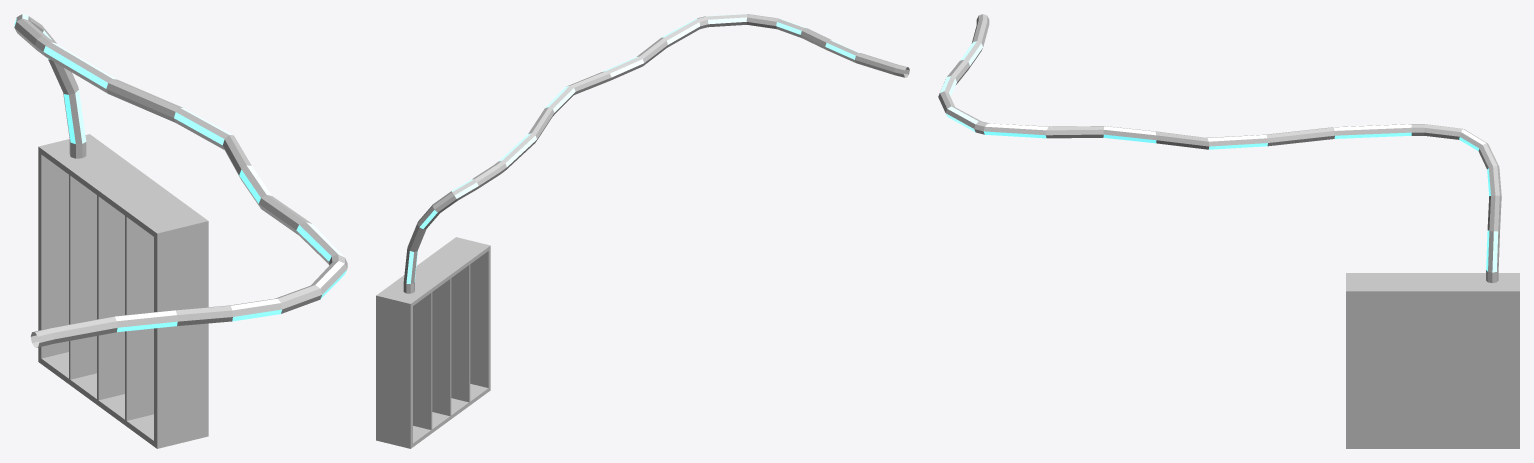
Rendered from oruzheinyi_shkaf.fbx.
3 views of the same model, side by side, from view 1: azimuth 30°, elevation 25°; view 2: azimuth 150°, elevation 25°; view 3: azimuth 270°, elevation 25° (orthographic). The views are drawn at different scales.
Parts seen in each view (by area): view 1: Cube.018, Cylinder.004; view 2: Cube.018, Cylinder.004; view 3: Cube.018, Cylinder.004.
Boxes of the visible parts, x1,y1,x2,y2 form: Cube.018: [38, 134, 208, 448]; Cylinder.004: [14, 14, 347, 347]; Cube.018: [376, 237, 490, 448]; Cylinder.004: [403, 14, 909, 293]; Cube.018: [1346, 273, 1519, 448]; Cylinder.004: [938, 14, 1501, 283].
Size of the model in its own units: 4.1 by 3.61 by 6.69.
